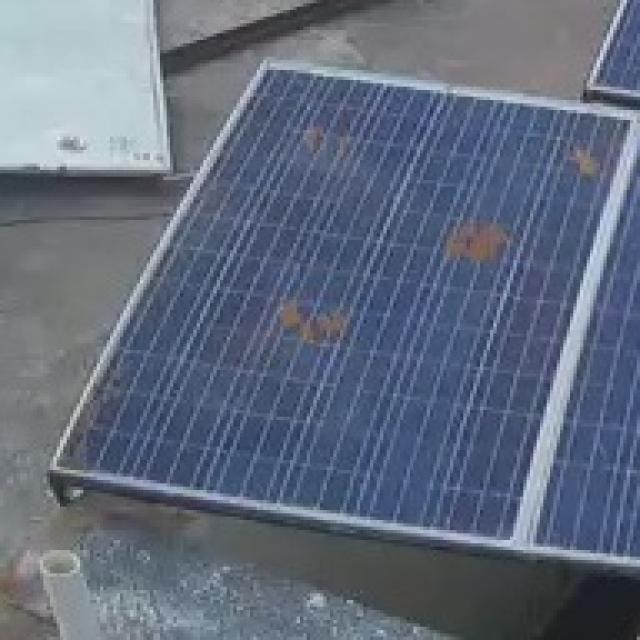Dusty: (255, 292, 354, 351), (437, 210, 515, 266), (294, 119, 359, 168), (556, 137, 605, 184), (83, 395, 107, 430), (58, 443, 89, 467)
